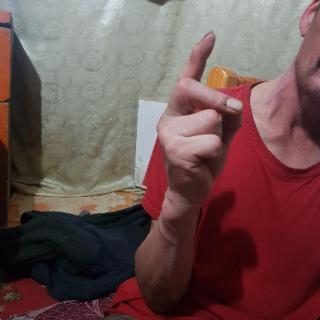TAA: (154, 25, 254, 215)
